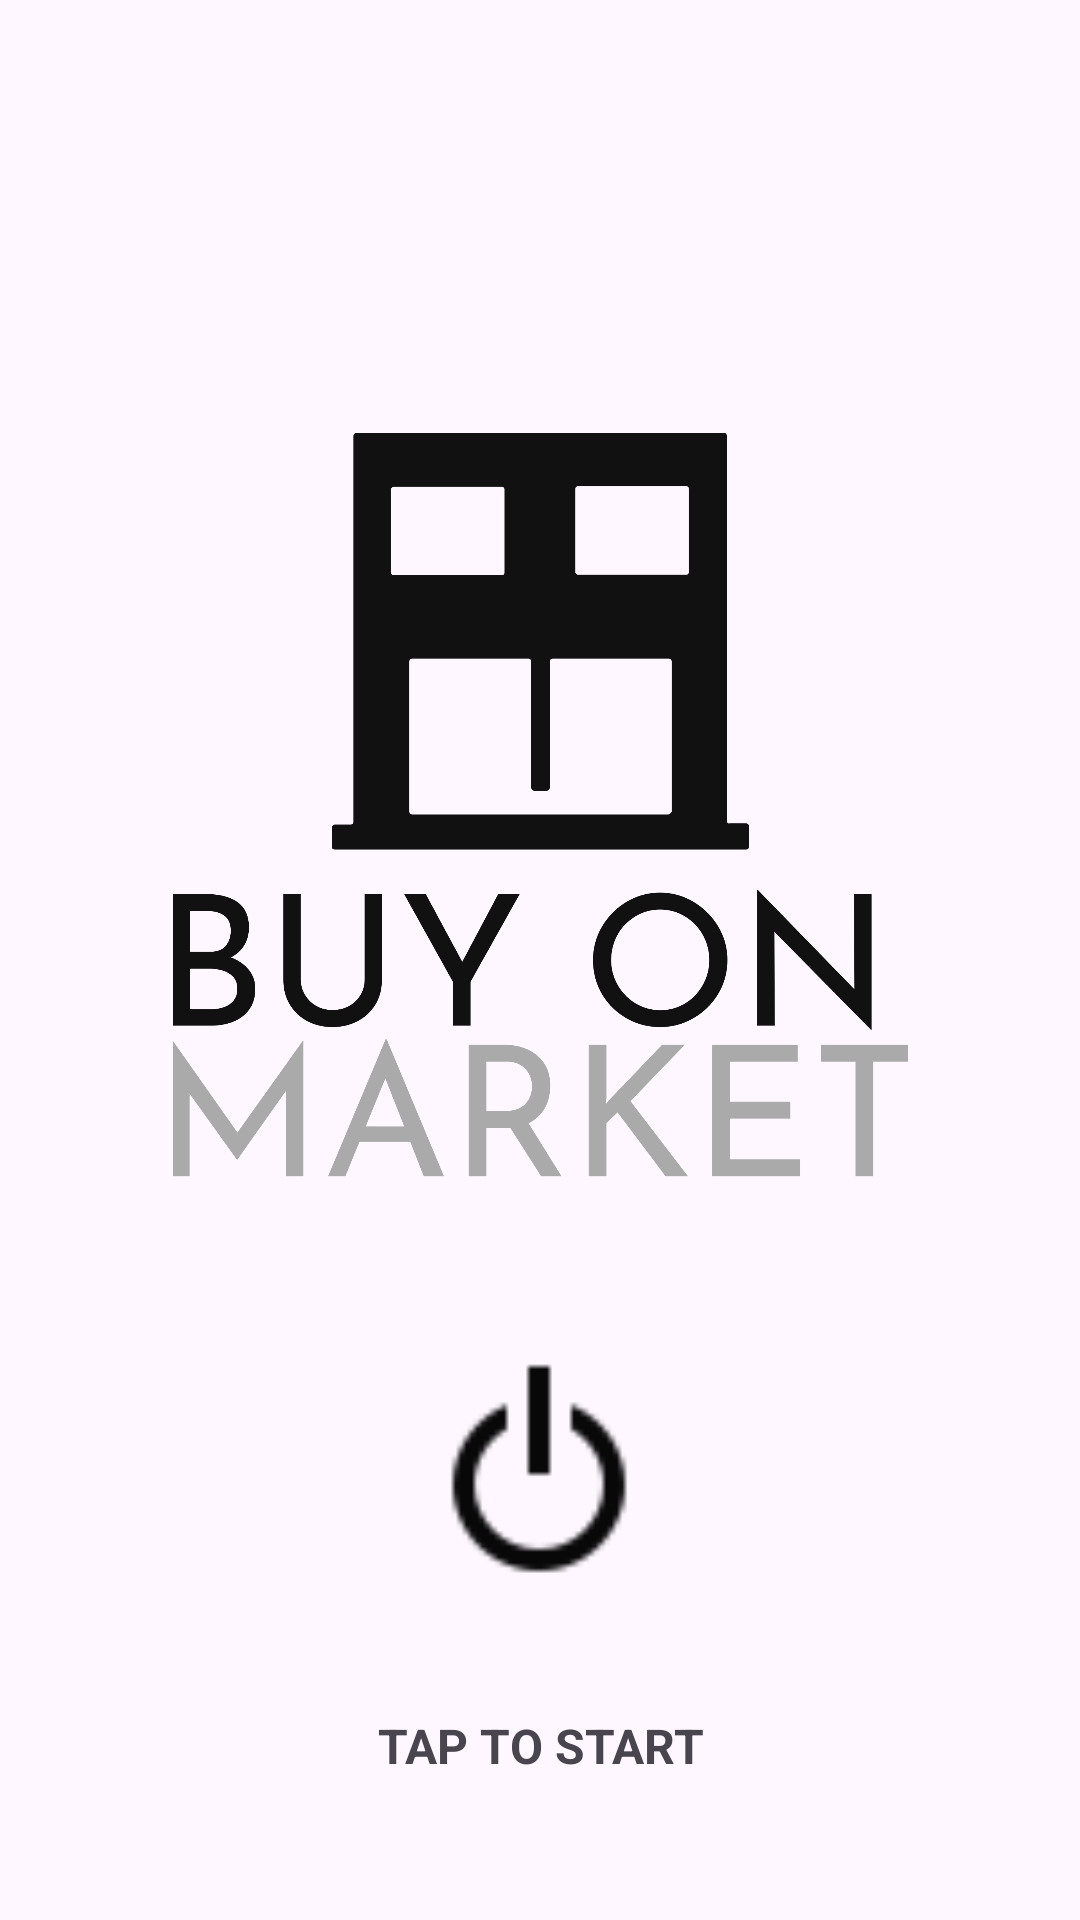

Where to tap for icons on this 1080w x 1920h app screen, as (x=x, y=y):
power off: (x=539, y=1468)
